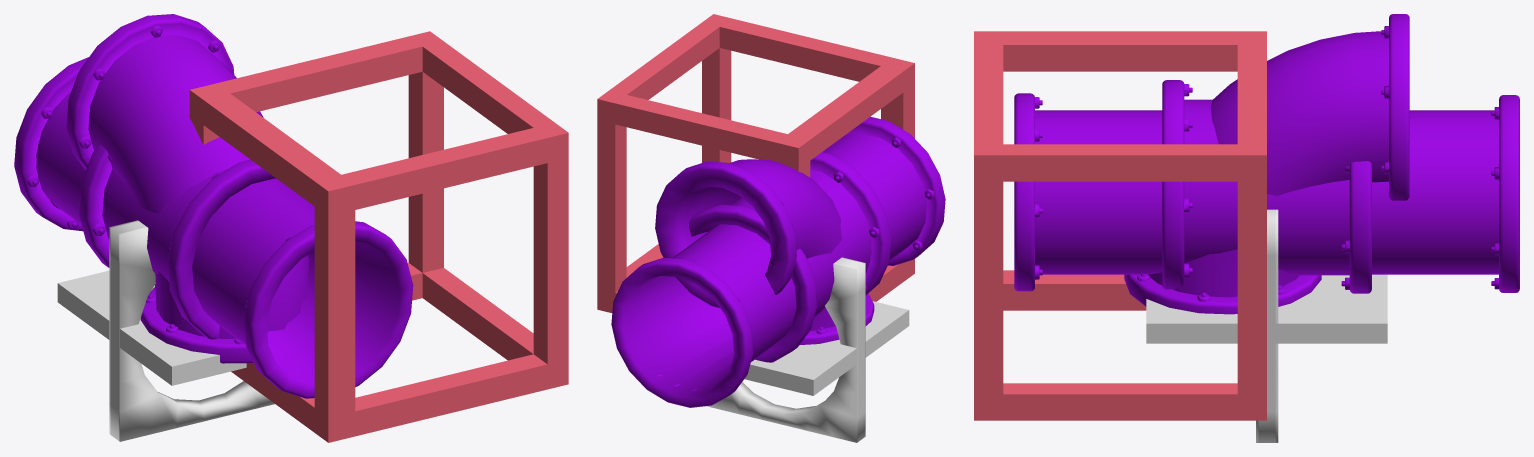
Rendered from attempt2.fbx.
The picture shows the model from 3 angles, left to right: view 1: azimuth 30°, elevation 25°; view 2: azimuth 150°, elevation 25°; view 3: azimuth 270°, elevation 25°; orthographic projection. The views are drawn at different scales.
Parts seen in each view (by area): view 1: obj_0, 03, 08, 07, Cube, Cube.001; view 2: 03, obj_0, 08, 07, Cube, Cube.001; view 3: obj_0, 03, 08, 07, Cube.001, Cube.
Part boxes in pixels (x1=…): obj_0: x1=189, y1=31, x2=568, y2=442; 03: x1=14, y1=57, x2=413, y2=398; 08: x1=66, y1=14, x2=309, y2=363; 07: x1=79, y1=144, x2=275, y2=339; Cube: x1=109, y1=220, x2=274, y2=441; Cube.001: x1=57, y1=270, x2=246, y2=385; 03: x1=611, y1=116, x2=945, y2=407; obj_0: x1=597, y1=14, x2=914, y2=312; 08: x1=655, y1=159, x2=874, y2=344; 07: x1=689, y1=152, x2=891, y2=362; Cube: x1=706, y1=257, x2=865, y2=442; Cube.001: x1=744, y1=301, x2=909, y2=395; obj_0: x1=974, y1=31, x2=1266, y2=420; 03: x1=1014, y1=93, x2=1519, y2=292; 08: x1=1124, y1=14, x2=1409, y2=314; 07: x1=1162, y1=80, x2=1371, y2=293; Cube.001: x1=1146, y1=274, x2=1387, y2=343; Cube: x1=1256, y1=209, x2=1278, y2=442.
Bounding box in the file's own units: 93.4 × 99.03 × 133.
